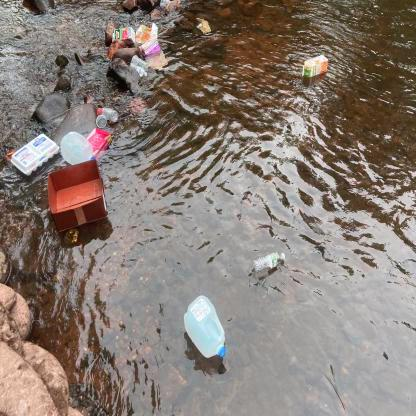Plastic: (176, 293, 232, 364), (59, 128, 112, 166), (250, 248, 286, 277), (95, 106, 119, 131)
Trash: (194, 16, 212, 36)
